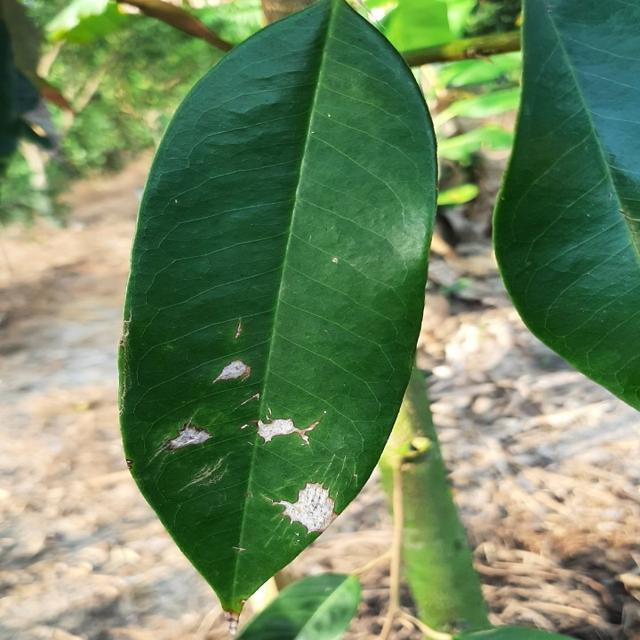Leaf Blight: (114, 3, 443, 637)
